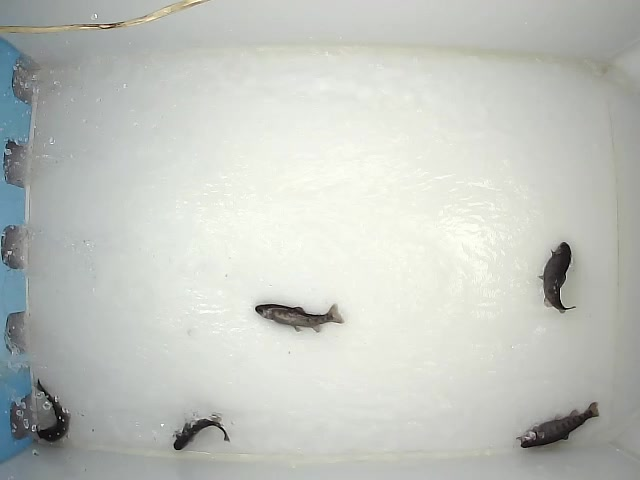fish: (514, 401, 600, 449), (536, 240, 578, 316), (254, 302, 347, 334), (33, 377, 71, 444), (172, 416, 231, 451)
